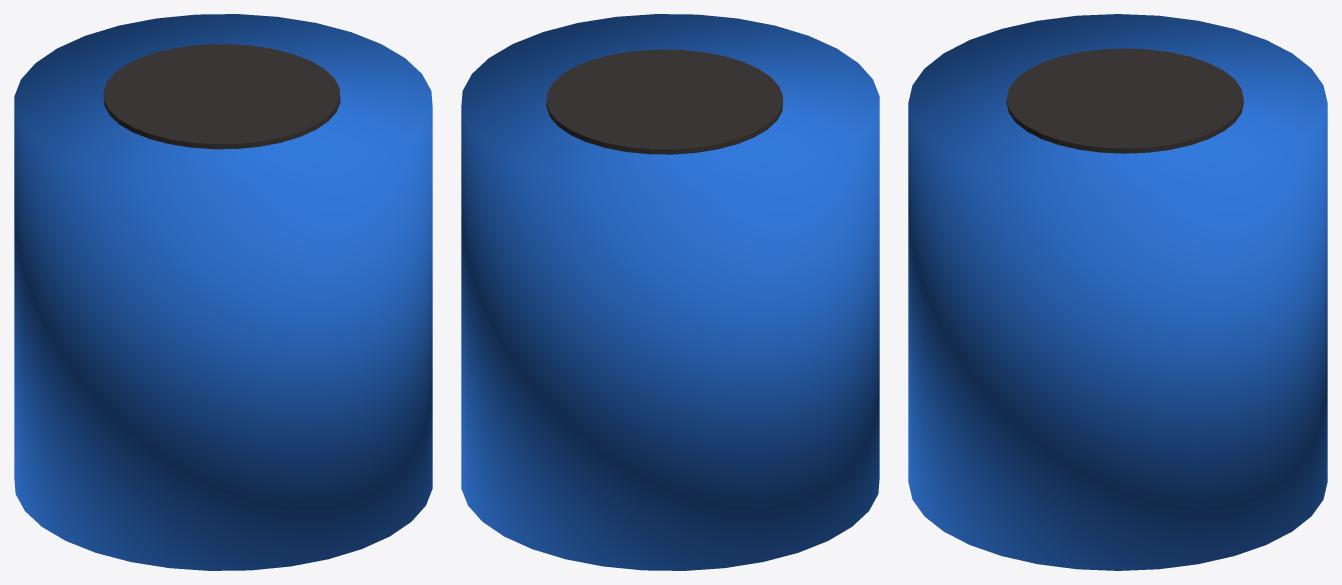
The model's file is base_bonbon_anglais_bleu.dae.
3 renders of one model, left to right at view 1: azimuth 30°, elevation 25°; view 2: azimuth 150°, elevation 25°; view 3: azimuth 270°, elevation 25°, orthographic.
Parts seen in each view (by area): view 1: Cylinder; view 2: Cylinder; view 3: Cylinder.
Part boxes in pixels (left/top/right/bottom): Cylinder: left=14, top=14, right=432, bottom=570; Cylinder: left=461, top=14, right=879, bottom=570; Cylinder: left=908, top=14, right=1327, bottom=570.
Size of the model in its own units: 2.23 by 2.23 by 2.31.
